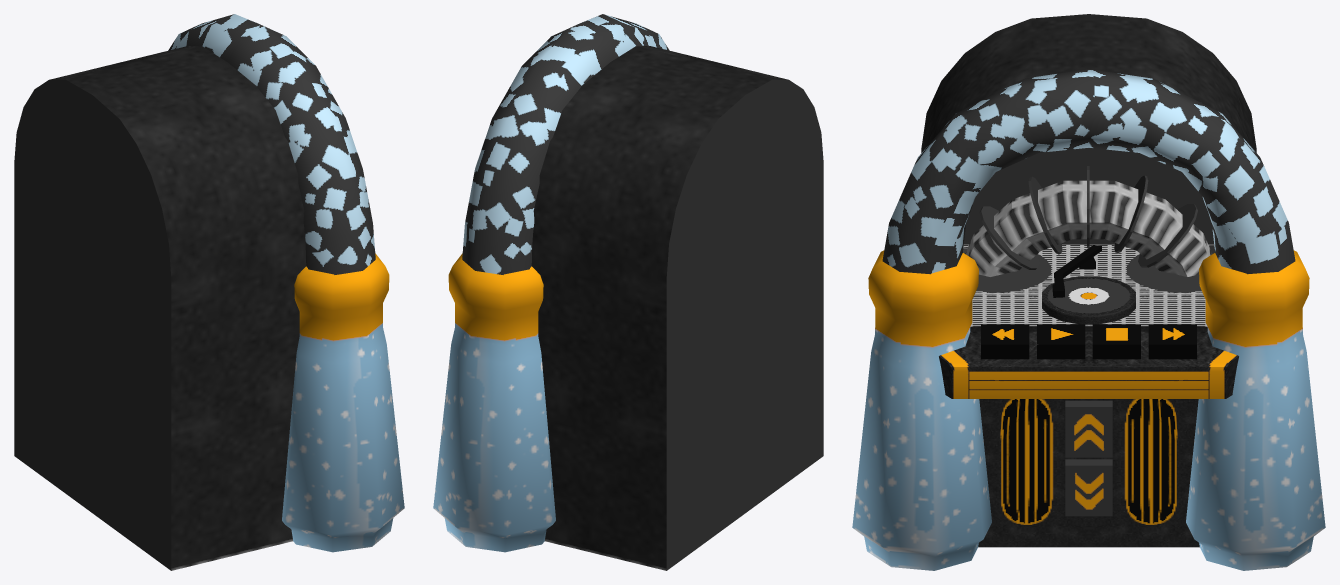
The model's file is jukebox-salt-decoration.glb.
3 views of the same model, side by side, from view 1: azimuth 30°, elevation 25°; view 2: azimuth 150°, elevation 25°; view 3: azimuth 270°, elevation 25° (orthographic). The views are drawn at different scales.
Parts seen in each view (by area): view 1: Body, Shaker, Arch; view 2: Body, Shaker, Arch; view 3: Shaker, Body, Arch, Board, VinylHolder, Vinyl, VinylArray, ButtonSaltVolDown, ButtonSaltVolUp, ButtonSaltNext, ButtonSaltPlay, ButtonSaltPrevious (+2 smaller).
Boxes of the visible parts, x1,y1,x2,y2 form: Body: (14,46,306,570); Shaker: (282,253,404,552); Arch: (168,14,375,274); Body: (531,46,823,570); Shaker: (433,253,555,552); Arch: (462,14,669,274); Shaker: (852,250,1325,570); Body: (921,14,1256,547); Arch: (882,69,1295,274); Board: (939,331,1238,398); VinylHolder: (965,180,1212,276); Vinyl: (1042,276,1135,324); VinylArray: (963,166,1214,269); ButtonSaltVolDown: (1065,459,1112,516); ButtonSaltVolUp: (1065,400,1112,457); ButtonSaltNext: (1148,324,1196,359); ButtonSaltPlay: (1037,324,1085,359); ButtonSaltPrevious: (981,324,1029,359).
Size of what is drawn, in the model's own units: 1.28 by 2.42 by 2.19.
Materials: 4 (4 with a texture image).
